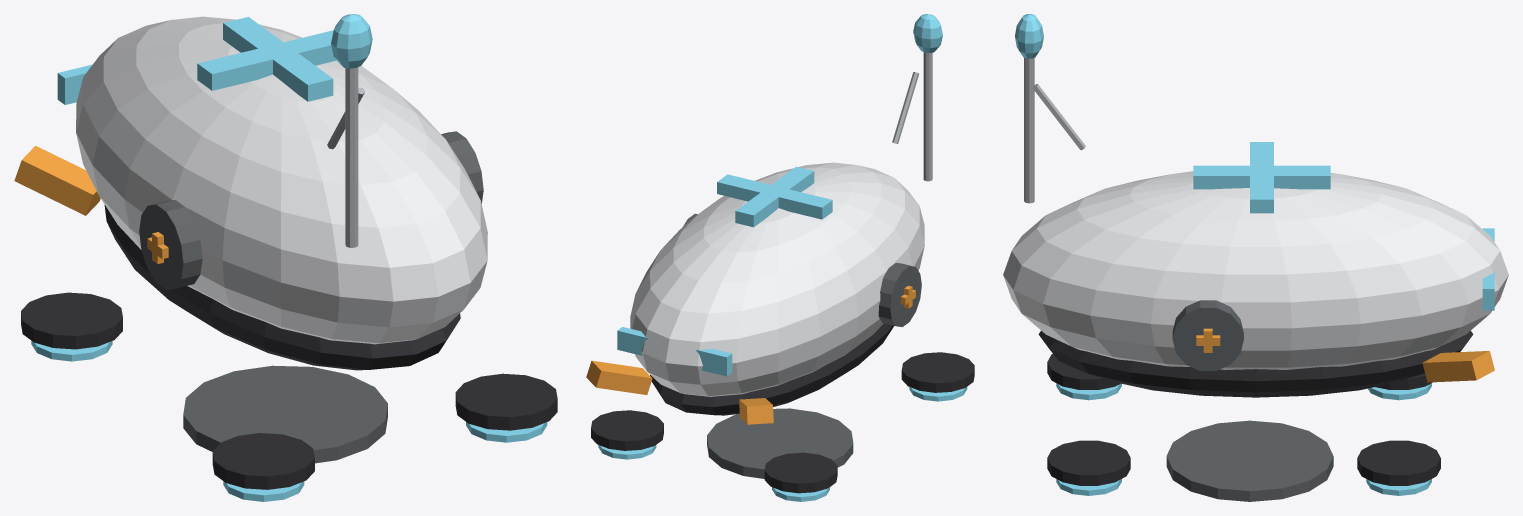
File: SM_Unit_Medic.glb
The picture shows the model from 3 angles, left to right: view 1: azimuth 30°, elevation 25°; view 2: azimuth 150°, elevation 25°; view 3: azimuth 270°, elevation 25°; orthographic projection. The views are drawn at different scales.
Visible parts, largest first — view 1: SM_Unit_Medic; view 2: SM_Unit_Medic; view 3: SM_Unit_Medic.
Boxes of the visible parts, x1,y1,x2,y2 form: SM_Unit_Medic: (14,14,557,501); SM_Unit_Medic: (586,14,974,501); SM_Unit_Medic: (1003,14,1508,501).
Size of the model in its own units: 1.03 by 1.57 by 1.7.
